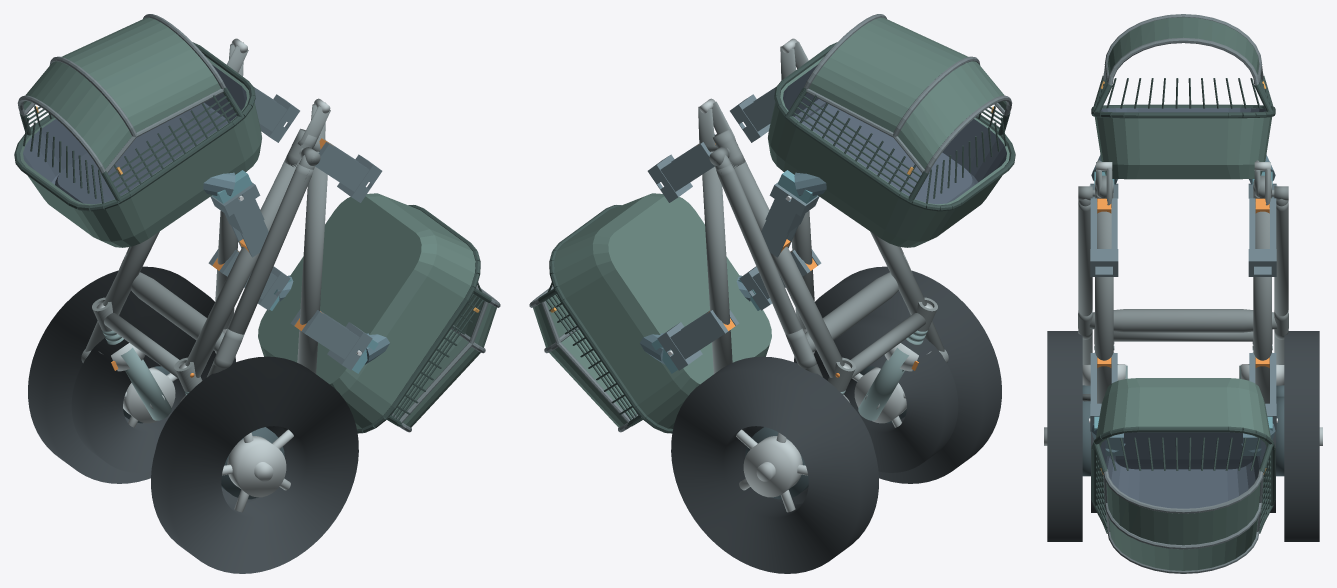
File: D01_w380_state3_wheel_L.glb
3 views of the same model, side by side, from view 1: azimuth 30°, elevation 25°; view 2: azimuth 150°, elevation 25°; view 3: azimuth 270°, elevation 25° (orthographic). The views are drawn at different scales.
Visible parts, largest first — view 1: D01_Lower, D01_Upper, RL_tire.013, RR_tire.013, FR_tire.013, main_lower_-1.001, main_upper_-1.001, V46_rear_leg_-1, RL_sealed_hub.013, Universal_Cabin_Receiver_H_-1, V46_rearbar, Universal_Cabin_Receiver_M_-1 (+12 smaller); view 2: D01_Lower, D01_Upper, RR_tire.013, RL_tire.013, FL_tire.013, main_upper_1.001, main_lower_1.001, V46_rear_leg_1, RR_sealed_hub.013, Universal_Cabin_Receiver_H_1, V46_rearbar, Universal_Cabin_Receiver_M_1 (+12 smaller); view 3: D01_Upper, D01_Lower, RL_tire.013, RR_tire.013, V46_rearbar, main_upper_1.001, main_upper_-1.001, V46_rear_leg_1, V46_rear_leg_-1, Universal_Cabin_Receiver_M_1, Universal_Cabin_Receiver_M_-1, front_fixed_round_tube.012 (+5 smaller).
Boxes of the visible parts, x1,y1,x2,y2 form: D01_Lower: [14, 14, 261, 247]; D01_Upper: [258, 193, 500, 433]; RL_tire.013: [151, 356, 358, 573]; RR_tire.013: [28, 266, 235, 483]; FR_tire.013: [71, 315, 215, 472]; main_lower_-1.001: [185, 158, 301, 377]; main_upper_-1.001: [297, 151, 327, 373]; V46_rear_leg_-1: [207, 164, 313, 377]; RL_sealed_hub.013: [227, 436, 286, 497]; Universal_Cabin_Receiver_H_-1: [290, 309, 372, 370]; V46_rearbar: [131, 272, 224, 351]; Universal_Cabin_Receiver_M_-1: [315, 140, 382, 202]; D01_Lower: [768, 14, 1015, 247]; D01_Upper: [529, 193, 771, 433]; RR_tire.013: [671, 356, 878, 573]; RL_tire.013: [794, 266, 1001, 483]; FL_tire.013: [814, 315, 958, 472]; main_upper_1.001: [702, 151, 732, 373]; main_lower_1.001: [728, 158, 844, 377]; V46_rear_leg_1: [716, 164, 822, 377]; RR_sealed_hub.013: [743, 436, 802, 497]; Universal_Cabin_Receiver_H_1: [657, 309, 739, 370]; V46_rearbar: [805, 272, 898, 351]; Universal_Cabin_Receiver_M_1: [647, 134, 714, 202]; D01_Upper: [1091, 378, 1275, 573]; D01_Lower: [1091, 14, 1275, 179]; RL_tire.013: [1047, 331, 1082, 541]; RR_tire.013: [1284, 331, 1319, 541]; V46_rearbar: [1089, 309, 1277, 332]; main_upper_1.001: [1253, 208, 1271, 403]; main_upper_-1.001: [1095, 208, 1113, 403]; V46_rear_leg_1: [1274, 201, 1288, 364]; V46_rear_leg_-1: [1078, 201, 1092, 364]; Universal_Cabin_Receiver_M_1: [1248, 198, 1276, 276]; Universal_Cabin_Receiver_M_-1: [1090, 198, 1118, 276]; front_fixed_round_tube.012: [1113, 331, 1253, 341].
Size of the model in its own units: 0.8263 by 0.9083 by 0.4748.
